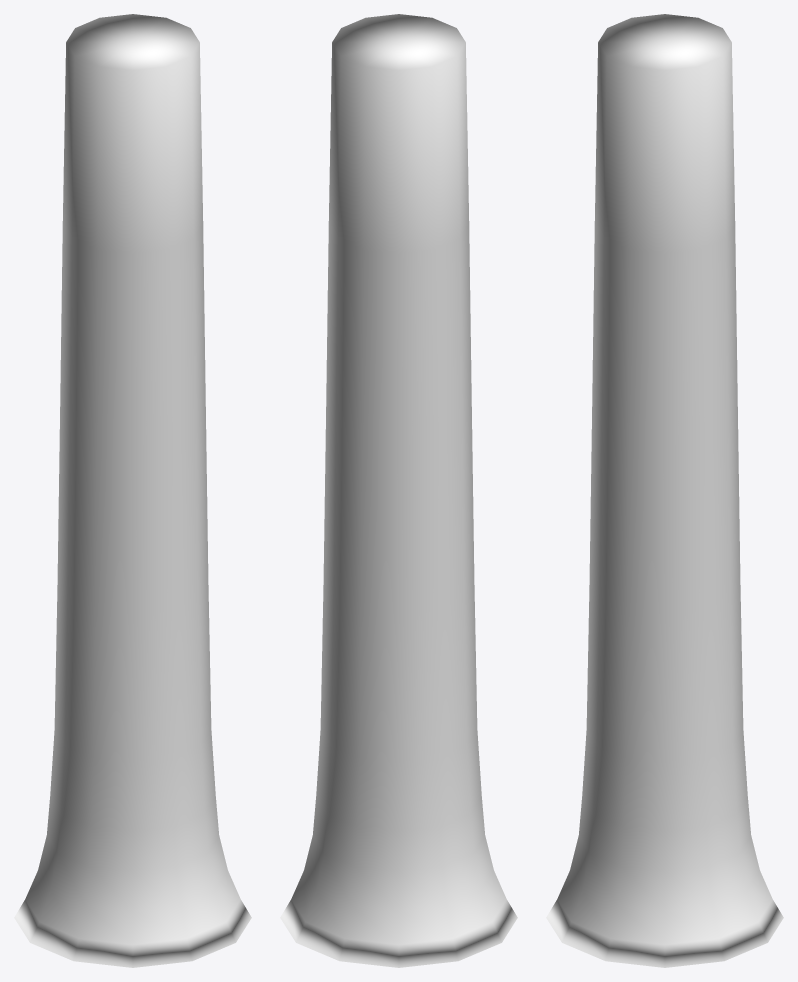
The model's file is oak-trunk-unit-authored-atlas.glb.
3 views of the same model, side by side, from view 1: azimuth 30°, elevation 25°; view 2: azimuth 150°, elevation 25°; view 3: azimuth 270°, elevation 25° (orthographic).
Visible parts, largest first — view 1: Authored surface; view 2: Authored surface; view 3: Authored surface.
Boxes of the visible parts, x1,y1,x2,y2 form: Authored surface: [14, 14, 251, 967]; Authored surface: [280, 14, 517, 967]; Authored surface: [546, 14, 783, 967].
Size of the model in its own units: 0.64 by 2.6 by 0.64.
Materials: 1 (1 with a texture image).
